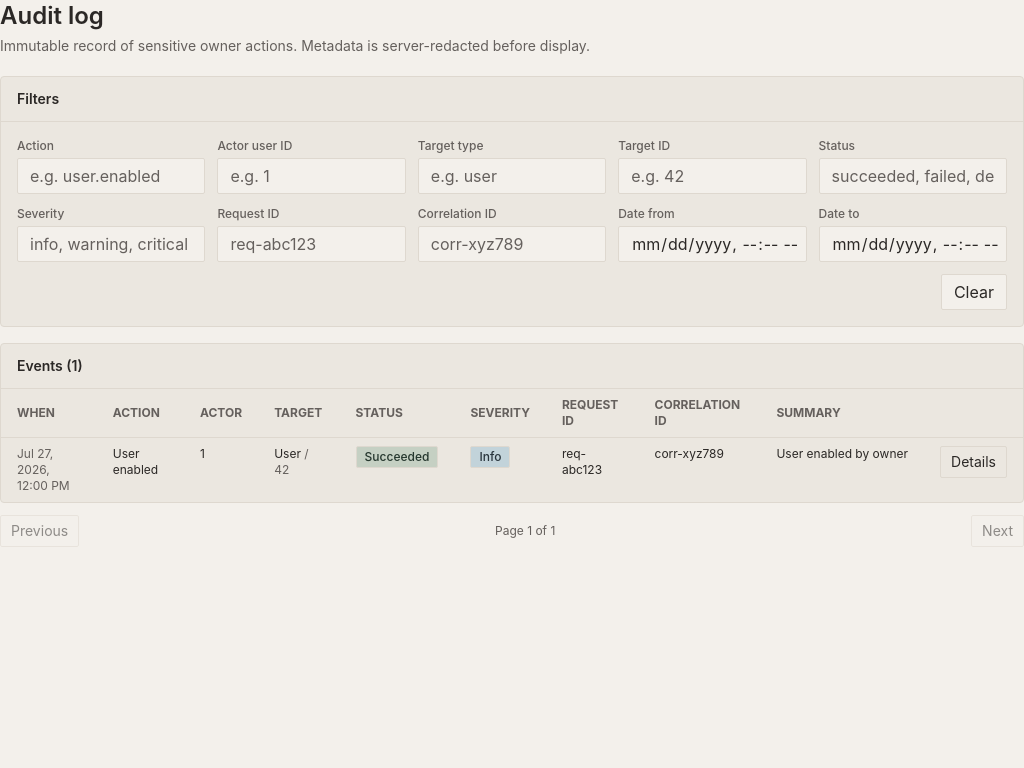
Scenario: AuditPage detail dialog › shows full detail content on success with known labels
Expected: the text "User enabled" is shown, top-left (113, 446), bottom-right (158, 477)
Click the button with aria-label "View details for audit event 1" at point(974, 462), box top-left (940, 446), bottom-right (1007, 478)
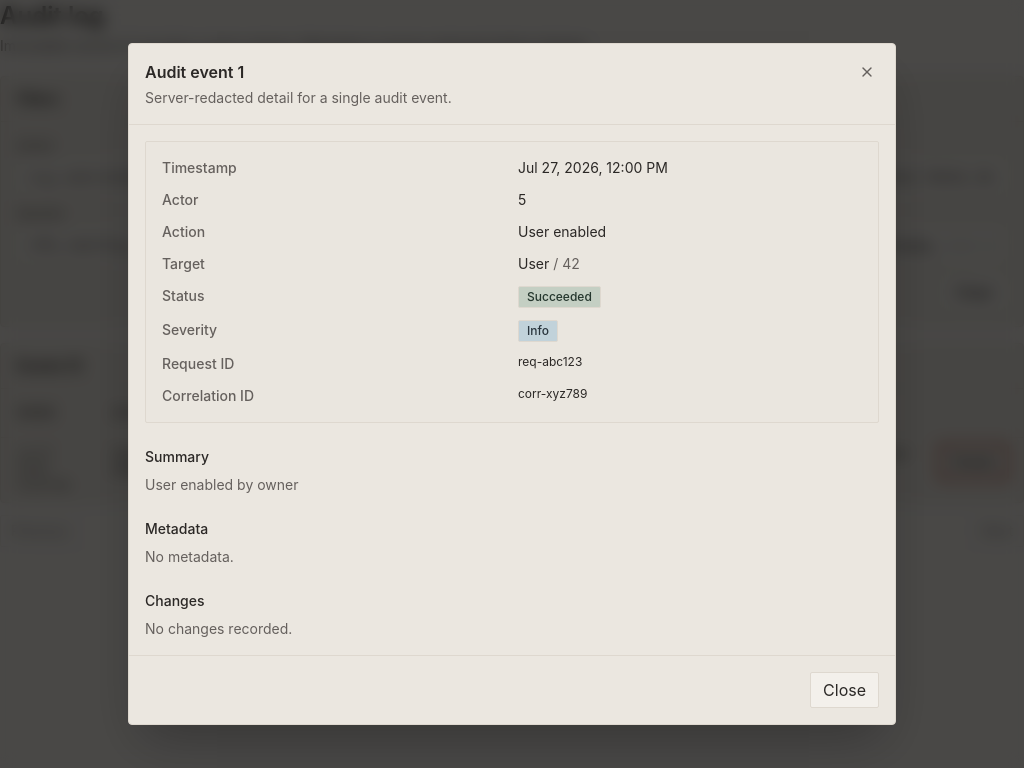
Now the dialog "Audit event 1" is shown
Now the dialog "Audit event 1" shows "2026", box top-left (518, 159), bottom-right (668, 176)
Now the dialog "Audit event 1" shows "Jul", box top-left (518, 159), bottom-right (668, 176)
